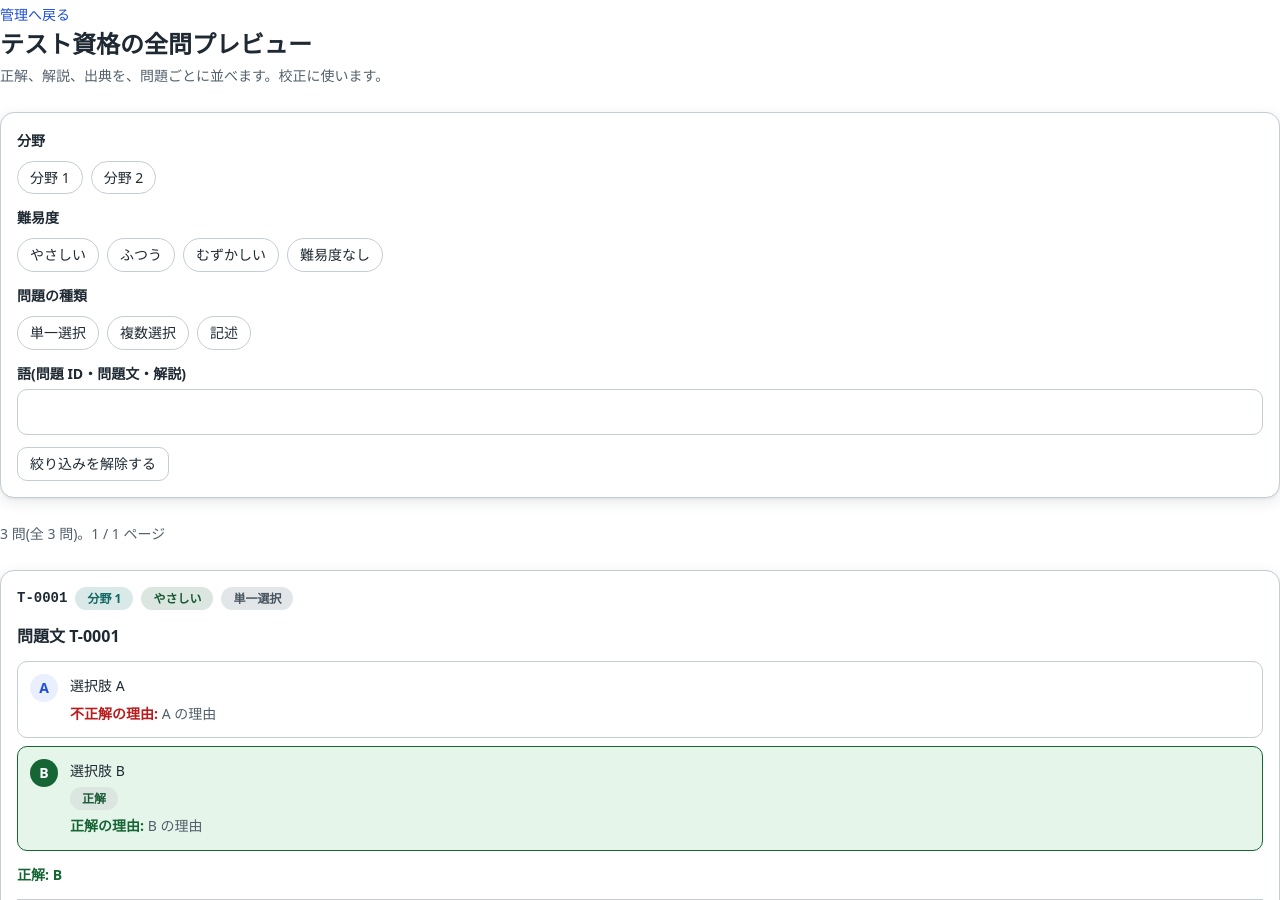
QuestionPreview › 合う問題がない_案内を出す
Type "存在しない語" into the search field labelled "語(問題 ID・問題文・解説)".
click(640, 412); type("存在しない語")  # box x1=17 y1=389 x2=1263 y2=435
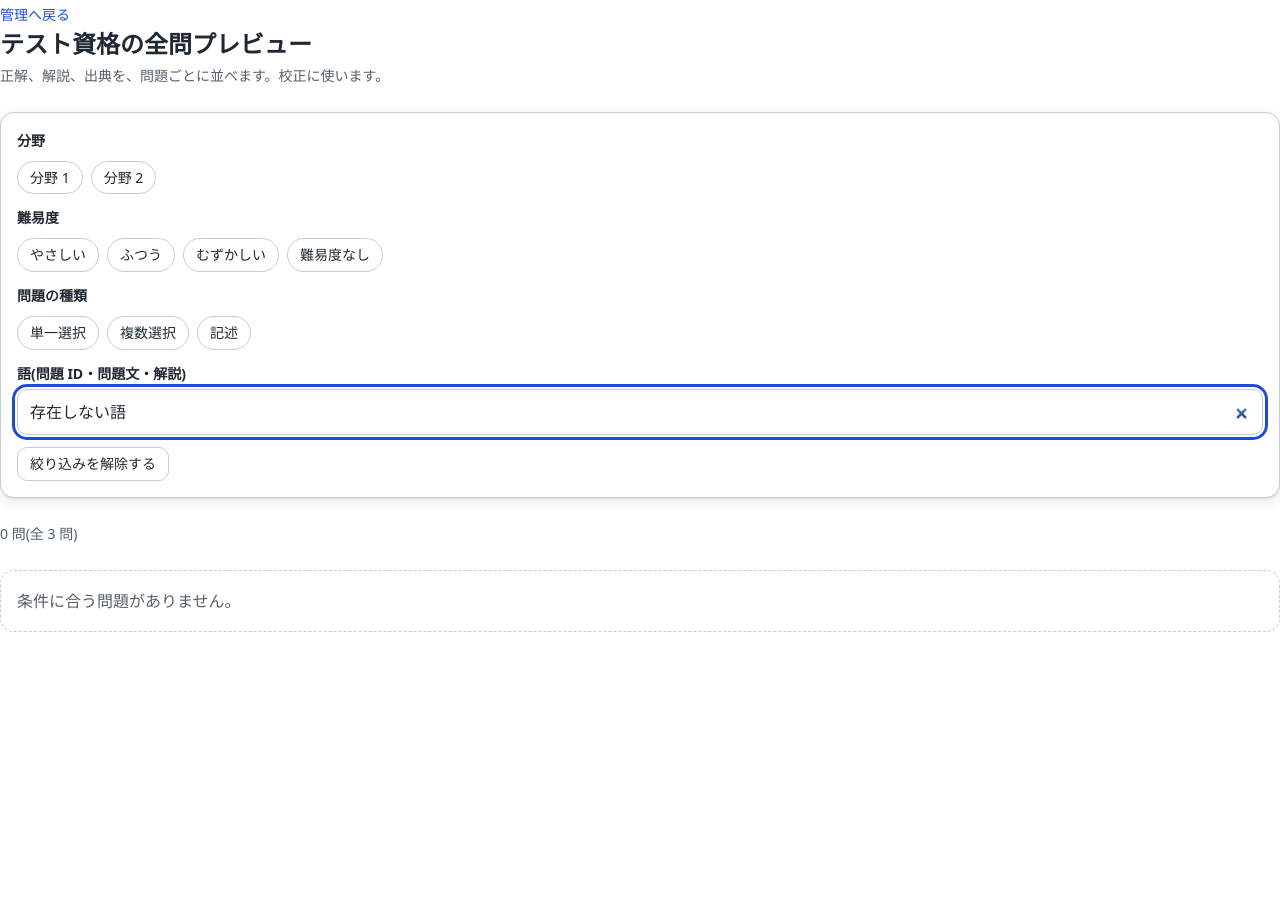
Now the text "条件に合う問題がありません。" is shown, box x1=0 y1=570 x2=1279 y2=632
Now the text "0 問(全 3 問)" is shown, box x1=0 y1=524 x2=77 y2=543
